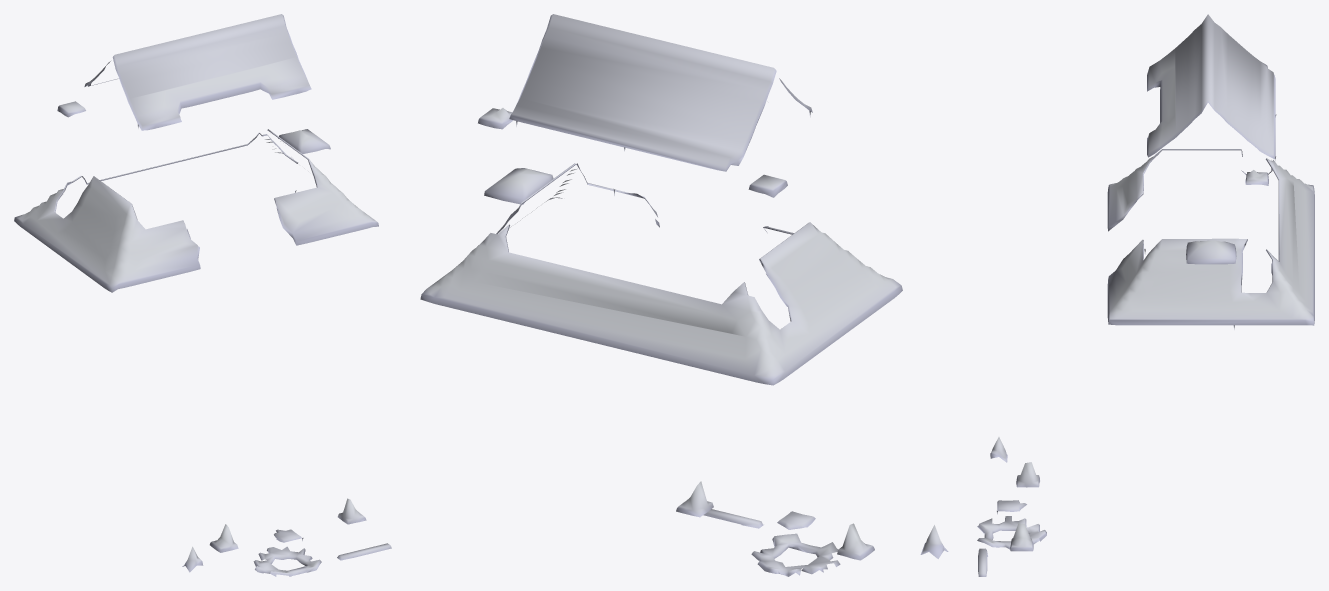
Rendered from category.nft.l.snow.glb.
The picture shows the model from 3 angles, left to right: view 1: azimuth 30°, elevation 25°; view 2: azimuth 150°, elevation 25°; view 3: azimuth 270°, elevation 25°; orthographic projection. The views are drawn at different scales.
Parts seen in each view (by area): view 1: snow, tier.4; view 2: snow, tier.4; view 3: snow, tier.4.
Part boxes in pixels (left/top/right/bottom): snow: left=14, top=14, right=391, bottom=576; tier.4: left=278, top=129, right=330, bottom=153; snow: left=420, top=14, right=948, bottom=576; tier.4: left=484, top=168, right=553, bottom=204; snow: left=977, top=14, right=1314, bottom=576; tier.4: left=1186, top=240, right=1236, bottom=264.
Size of the model in its own units: 8.47 by 13.87 by 8.79.
